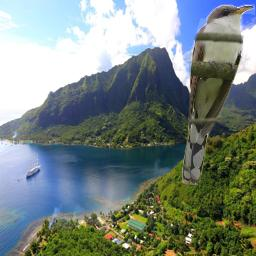Cuckoo: (182, 4, 255, 185)
